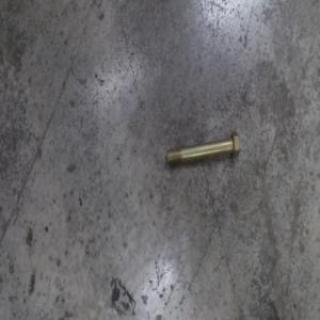Bolttrack_idkeyframe: (165, 128, 239, 167)
